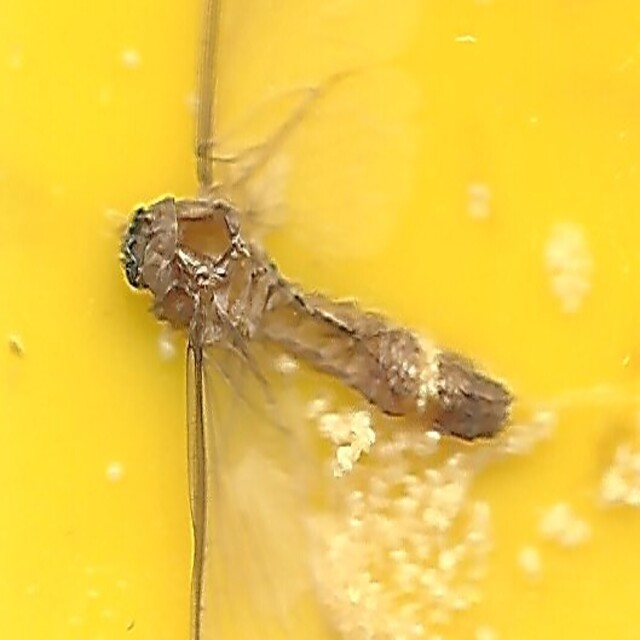Ephemeroptera: (121, 186, 519, 454)
